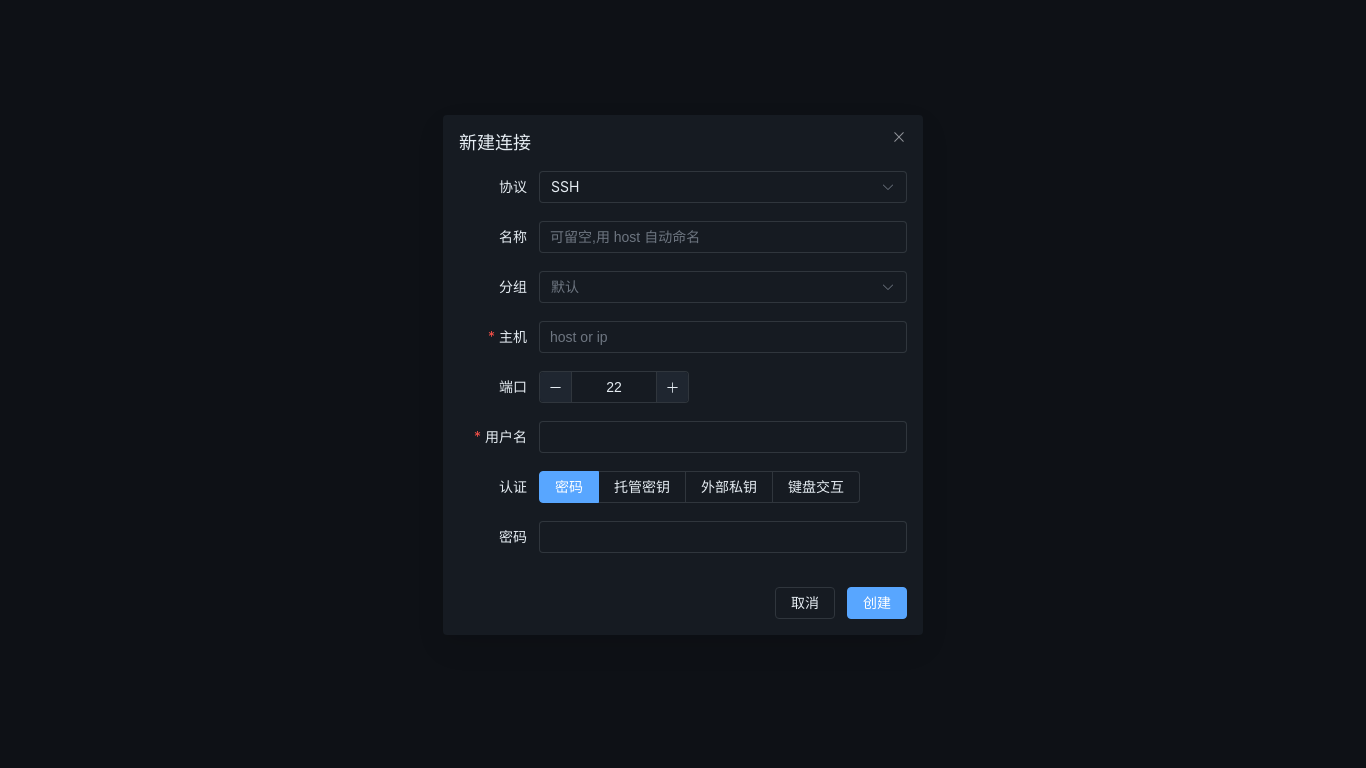
Test case: SessionCreateDialog › blocks submission when managed-key mode is selected with no key available
The image size is (1366, 768).
Type "example.test" into the field with placeholder "host or ip". click: (723,337)
box: [550,322,896,352]
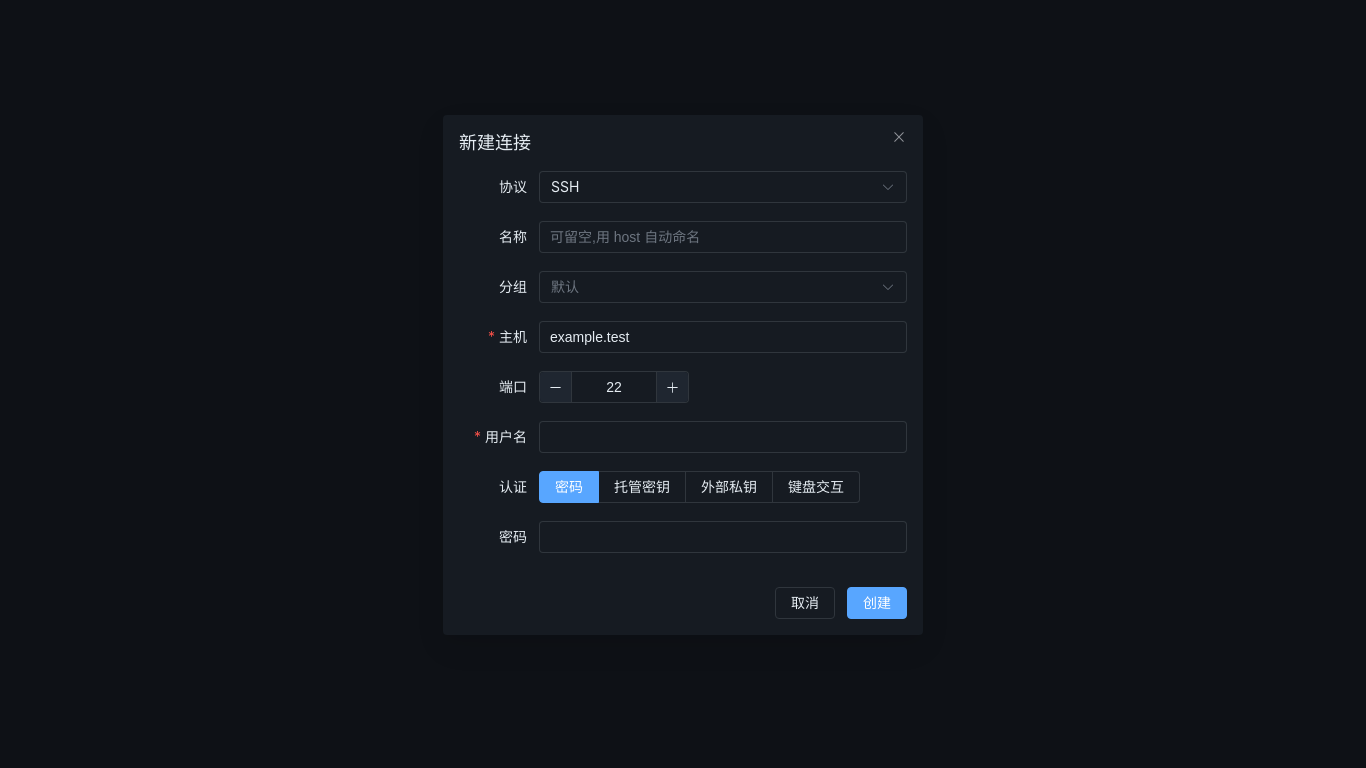
Type "alice" into the field labelled "用户名". click: (723,437)
box: [550,422,896,452]
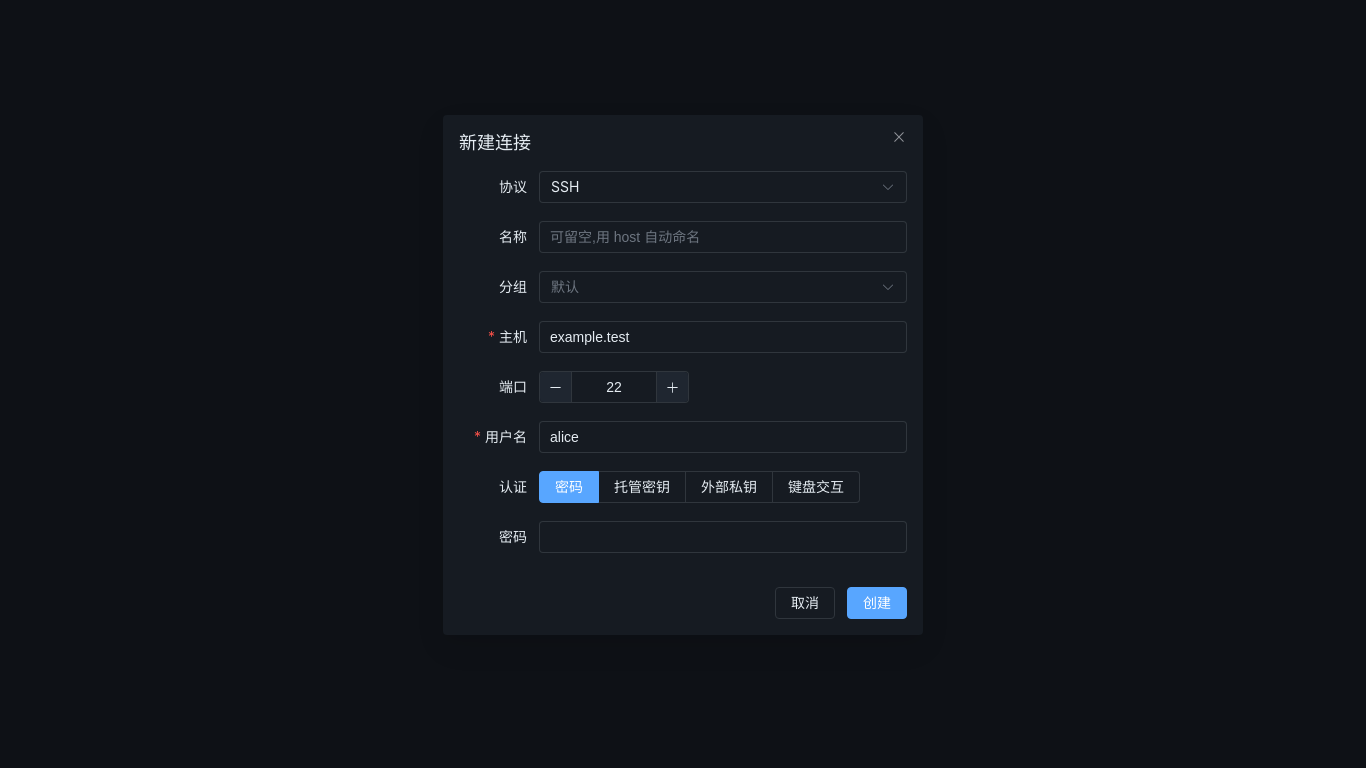
Click the radio button labelled "托管密钥". click: (642,487)
box: [599,471,686,503]
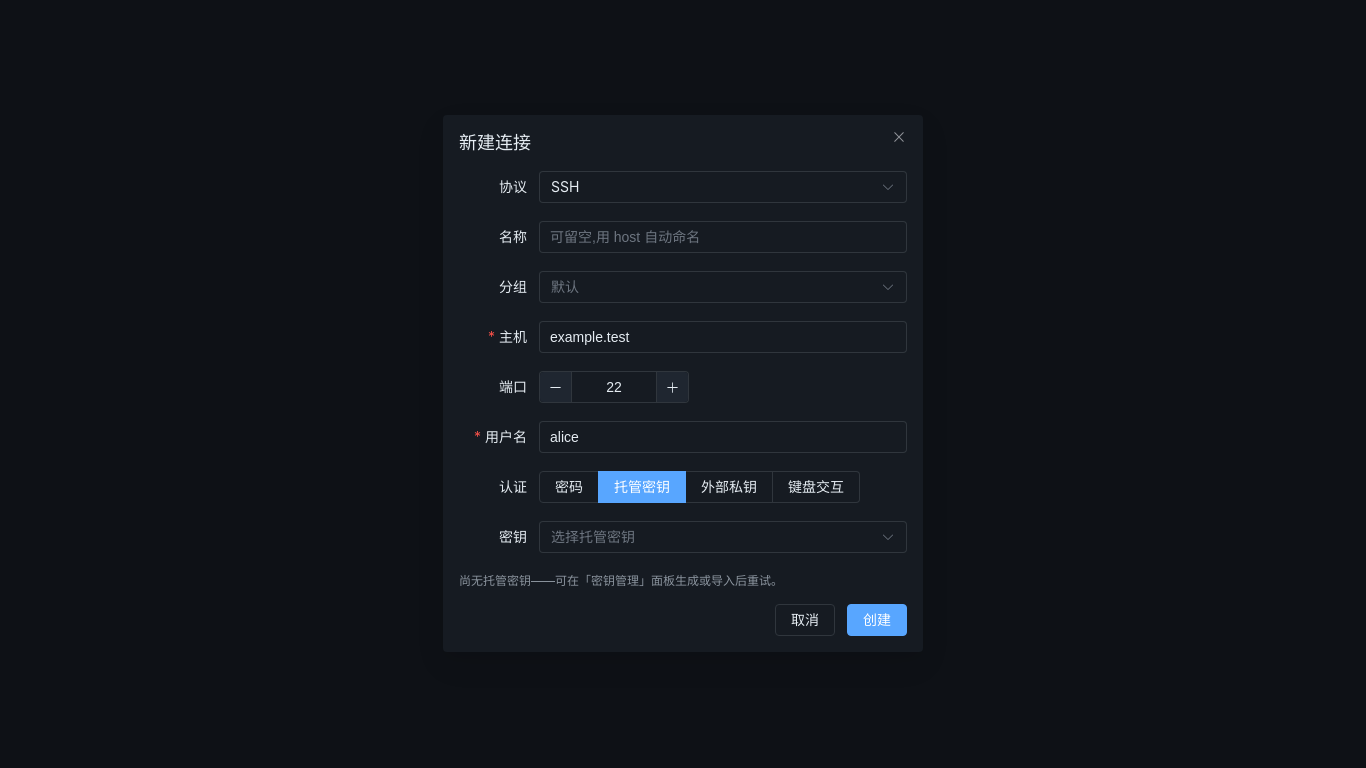
Click the button "创建". click: (877,620)
box: [847,604,907,636]
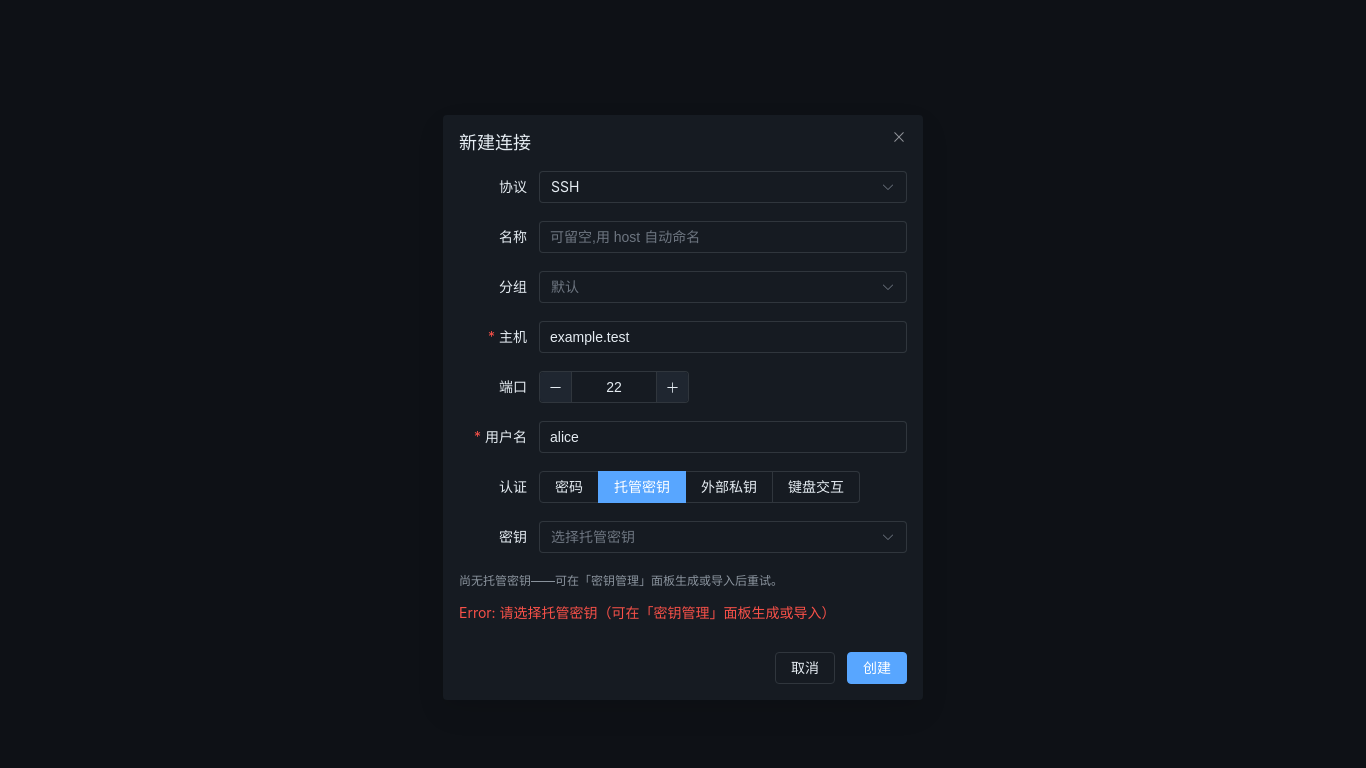
Check: the text "请选择托管密钥" is shown, box [459,604,836,621]
